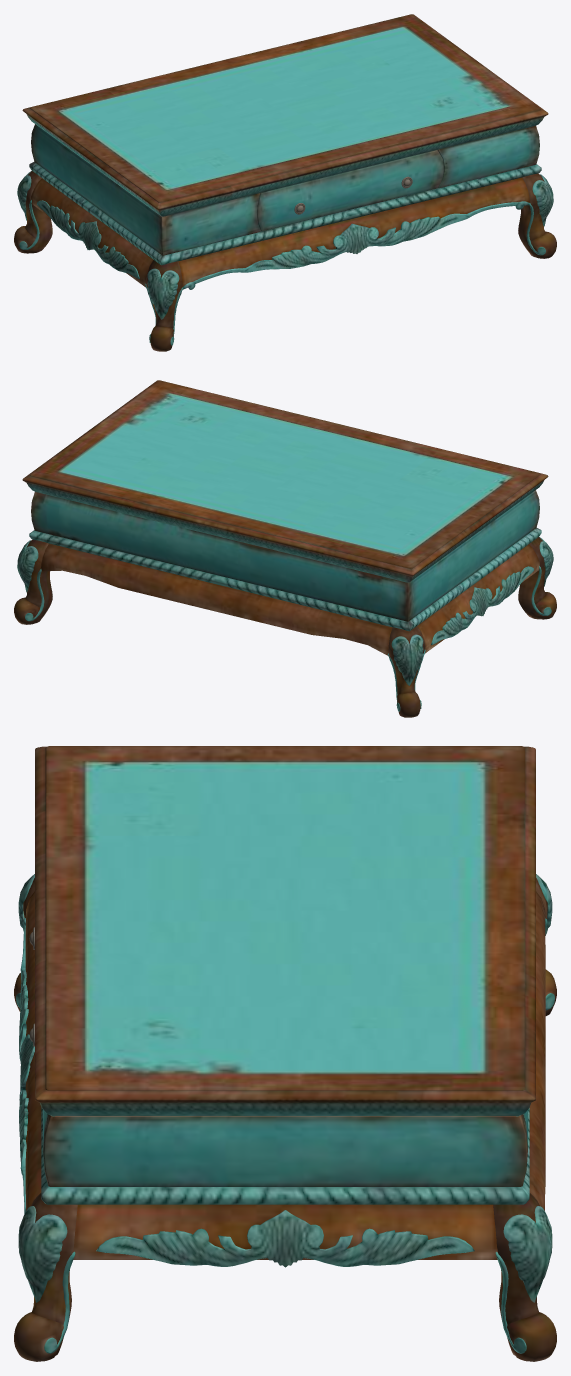
The model's file is ph_CoffeeTable_01.glb.
3 renders of one model, top to bottom at view 1: azimuth 30°, elevation 25°; view 2: azimuth 150°, elevation 25°; view 3: azimuth 270°, elevation 25°, orthographic. The views are drawn at different scales.
Visible parts, largest first — view 1: CoffeeTable_01; view 2: CoffeeTable_01; view 3: CoffeeTable_01.
Part boxes in pixels (<box>): CoffeeTable_01: <box>14,14,556,351</box>; CoffeeTable_01: <box>14,380,556,717</box>; CoffeeTable_01: <box>14,746,556,1361</box>.
Bounding box in the file's own units: 1.54 × 0.5232 × 0.9728.
1 material, 1 textured.
